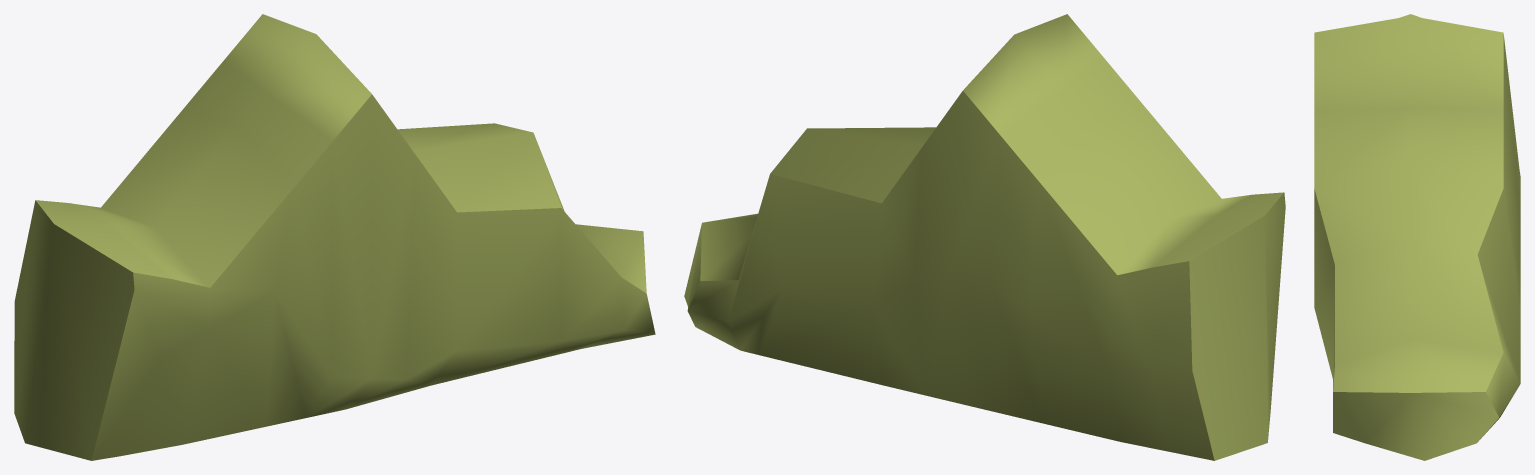
The model's file is NewGrass2.fbx.
3 renders of one model, left to right at view 1: azimuth 30°, elevation 25°; view 2: azimuth 150°, elevation 25°; view 3: azimuth 270°, elevation 25°, orthographic. The views are drawn at different scales.
Visible parts, largest first — view 1: pCube13; view 2: pCube13; view 3: pCube13.
Boxes of the visible parts, <box> form: pCube13: <box>14,14,655,460</box>; pCube13: <box>684,14,1285,460</box>; pCube13: <box>1314,14,1520,460</box>.
Size of the model in its own units: 2.19 by 1.2 by 0.7342.
